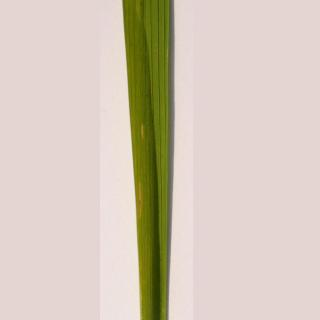Hawar-Daun: (130, 171, 152, 226), (135, 116, 150, 140)
